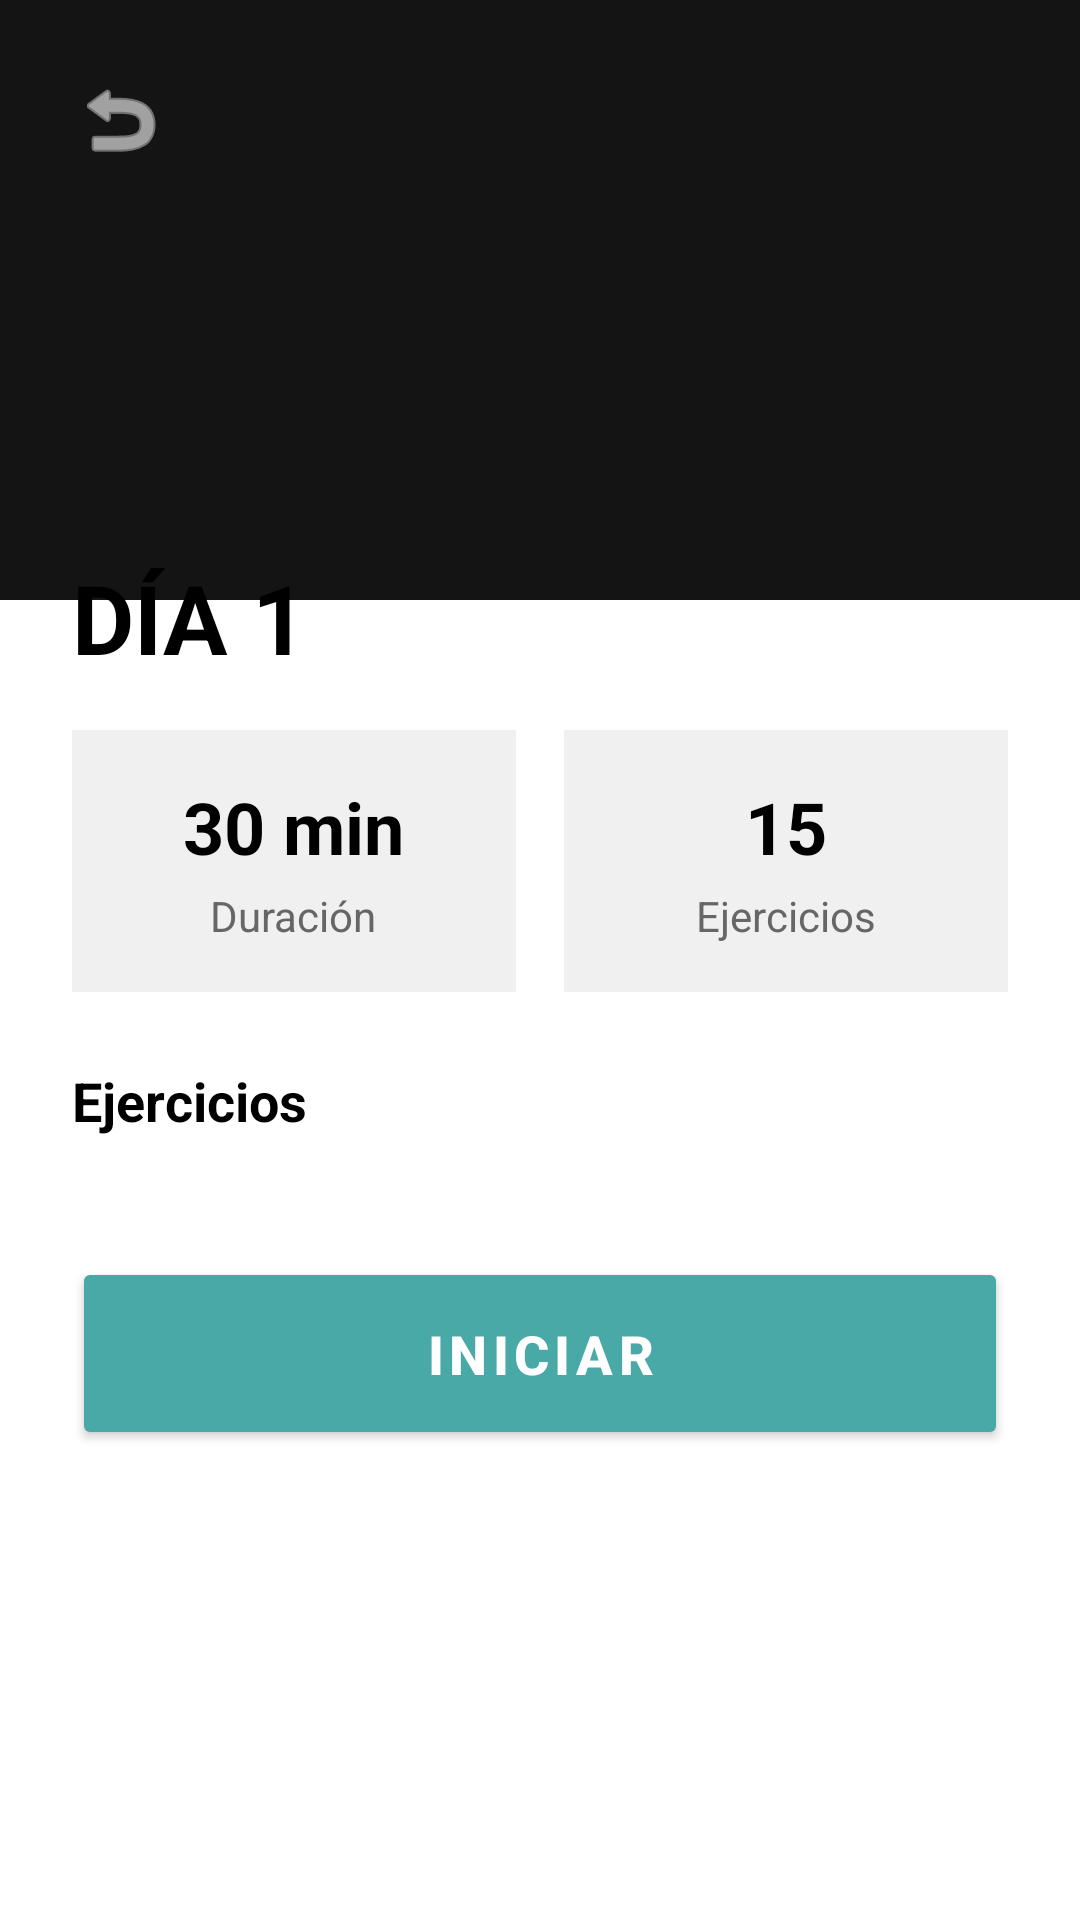

Icons on this 1080 × 1920 Android screen, each with the point to tap as (x,y):
Regresar: (121,120)
